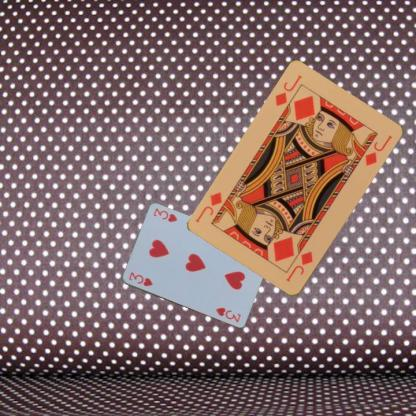3h: (126, 269, 154, 288)
Jd: (272, 72, 303, 108), (284, 248, 314, 284)
